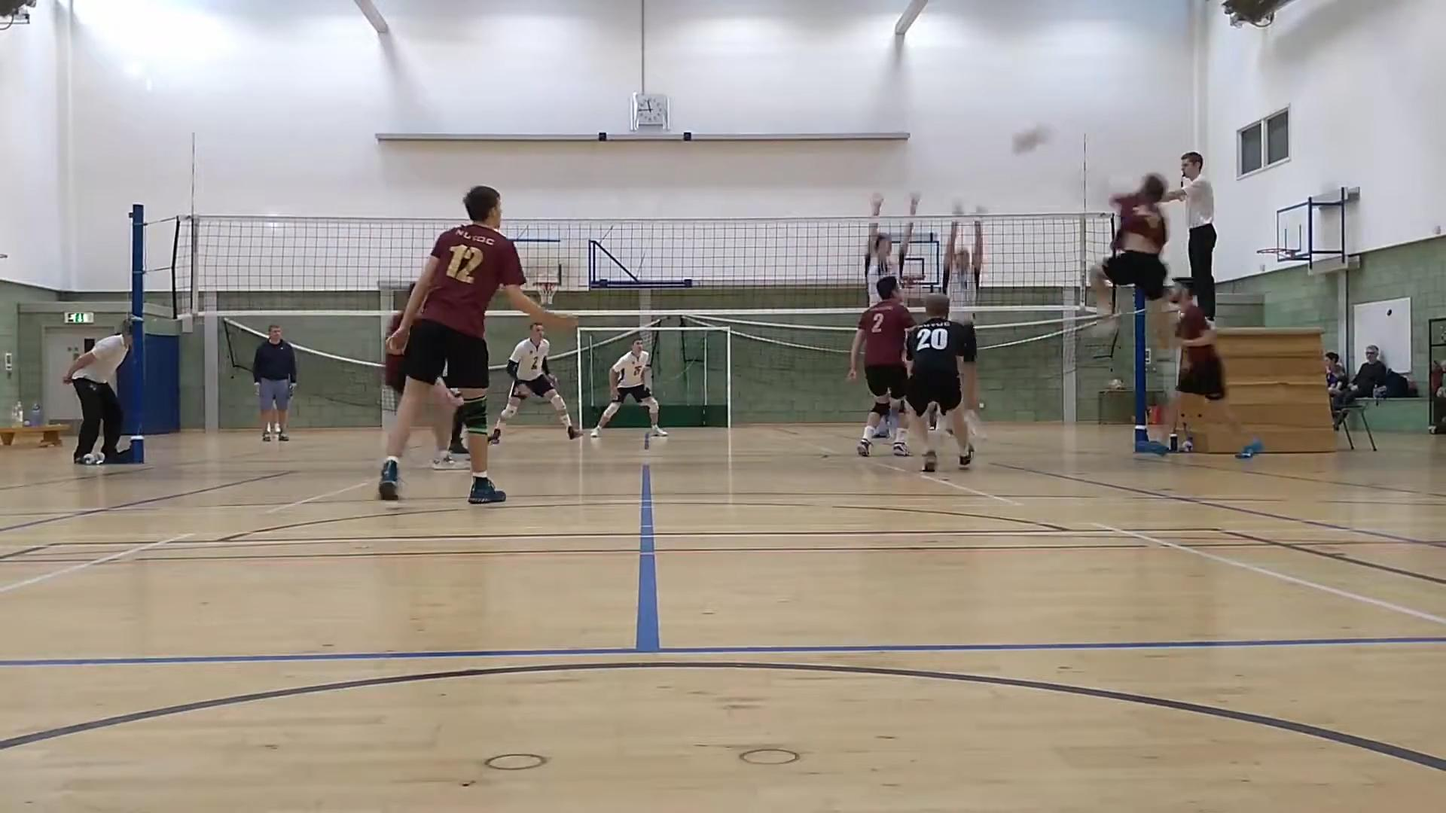Attack: (1091, 164, 1224, 358)
Block: (935, 198, 998, 416), (849, 182, 930, 298)
Player: (379, 186, 575, 503), (1139, 279, 1243, 454), (905, 293, 977, 471), (848, 276, 914, 456), (490, 323, 581, 443), (591, 337, 667, 437), (431, 376, 462, 470)
ball: (1008, 120, 1059, 154)
